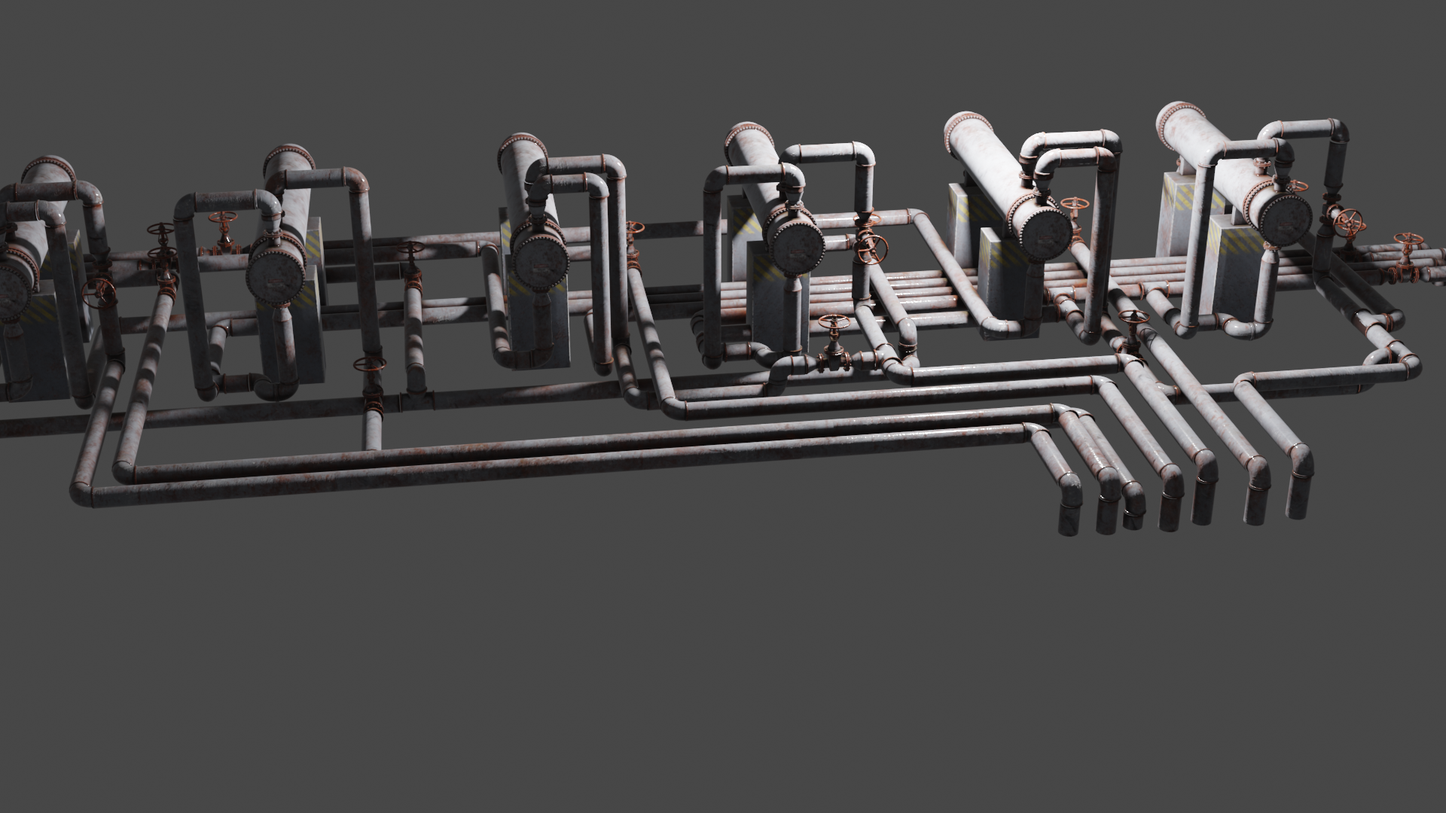HE_1: (1, 155, 72, 313)
HE_2: (246, 137, 315, 300)
HE_3: (500, 128, 570, 291)
HE_4: (720, 123, 824, 270)
HE_5: (941, 109, 1073, 255)
HE_6: (1156, 96, 1310, 242)
